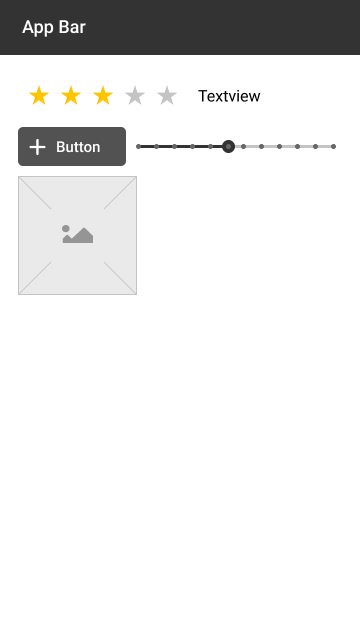buttonImage: (18, 125, 126, 167)
imageView: (16, 175, 139, 296)
ratingBar: (24, 82, 181, 111)
slider: (134, 140, 337, 154)
textView: (197, 87, 262, 108)
toolbar: (1, 1, 360, 56)
